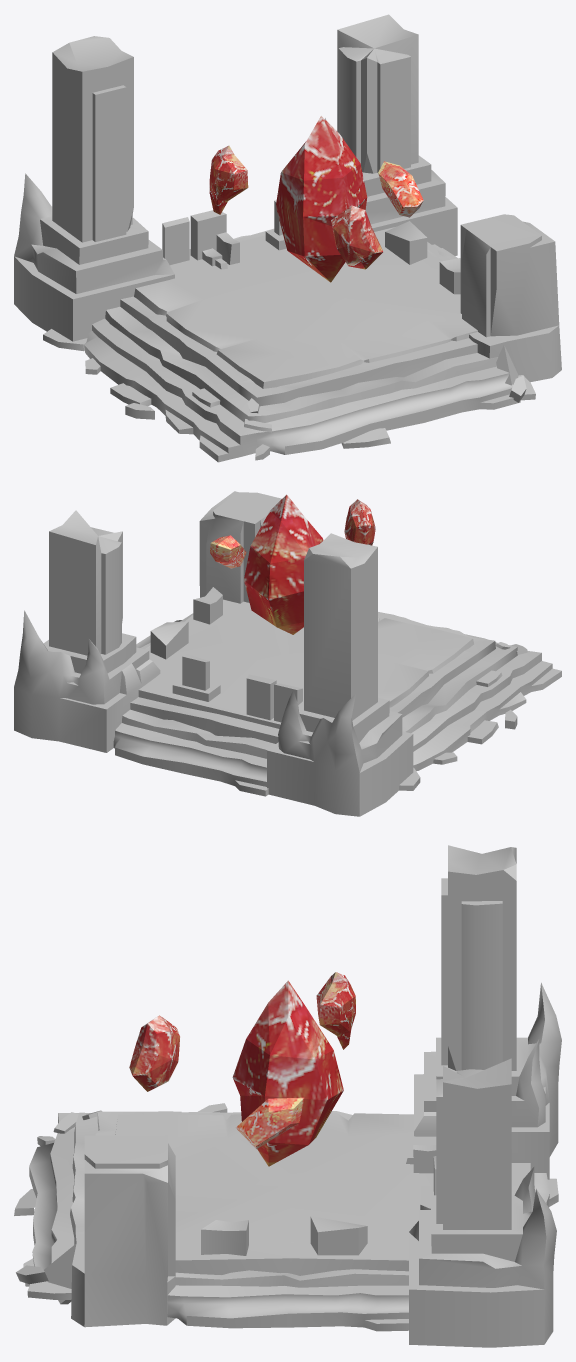
Rendered from BottomRedBase.FBX.
3 views of the same model, one above another, from view 1: azimuth 30°, elevation 25°; view 2: azimuth 150°, elevation 25°; view 3: azimuth 270°, elevation 25° (orthographic). The views are drawn at different scales.
Visible parts, largest first — view 1: BottomRedBase, BottomRedBase_crystal01, BottomRedBase_crystal03, BottomRedBase_crystal02, BottomRedBase_crystal04; view 2: BottomRedBase, BottomRedBase_crystal01, BottomRedBase_crystal03, BottomRedBase_crystal04; view 3: BottomRedBase, BottomRedBase_crystal01, BottomRedBase_crystal03, BottomRedBase_crystal04, BottomRedBase_crystal02.
Boxes of the visible parts, <box> form: BottomRedBase: <box>14,14,561,462</box>; BottomRedBase_crystal01: <box>275,116,367,282</box>; BottomRedBase_crystal03: <box>331,205,383,269</box>; BottomRedBase_crystal02: <box>209,145,248,214</box>; BottomRedBase_crystal04: <box>378,161,423,217</box>; BottomRedBase: <box>14,491,561,816</box>; BottomRedBase_crystal01: <box>244,494,323,634</box>; BottomRedBase_crystal03: <box>344,499,375,545</box>; BottomRedBase_crystal04: <box>210,535,246,568</box>; BottomRedBase: <box>14,845,561,1347</box>; BottomRedBase_crystal01: <box>232,980,343,1166</box>; BottomRedBase_crystal03: <box>129,1015,179,1091</box>; BottomRedBase_crystal04: <box>236,1097,304,1148</box>; BottomRedBase_crystal02: <box>316,972,355,1049</box>.
Size of the model in its own units: 1010 by 637 by 996.
